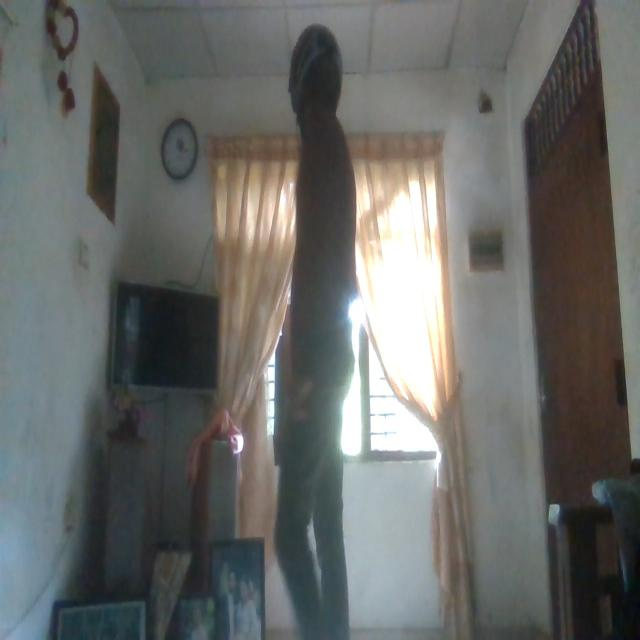Helmet_Wearer: (288, 22, 348, 140)
Person: (282, 23, 362, 637)
